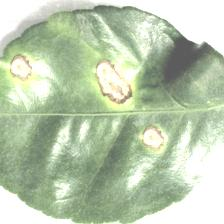canker: (4, 35, 170, 149)
